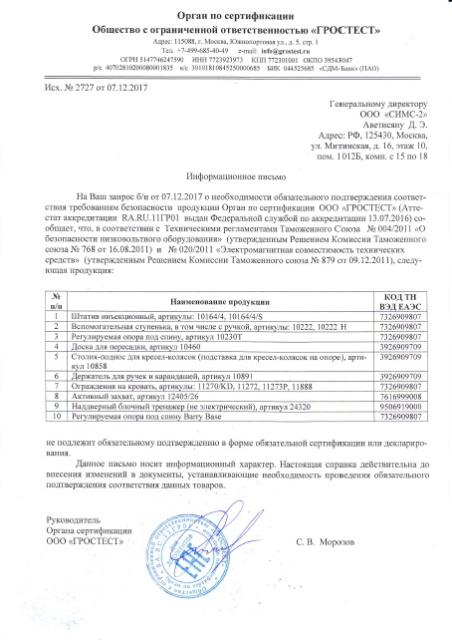stamp: (150, 512, 228, 598)
